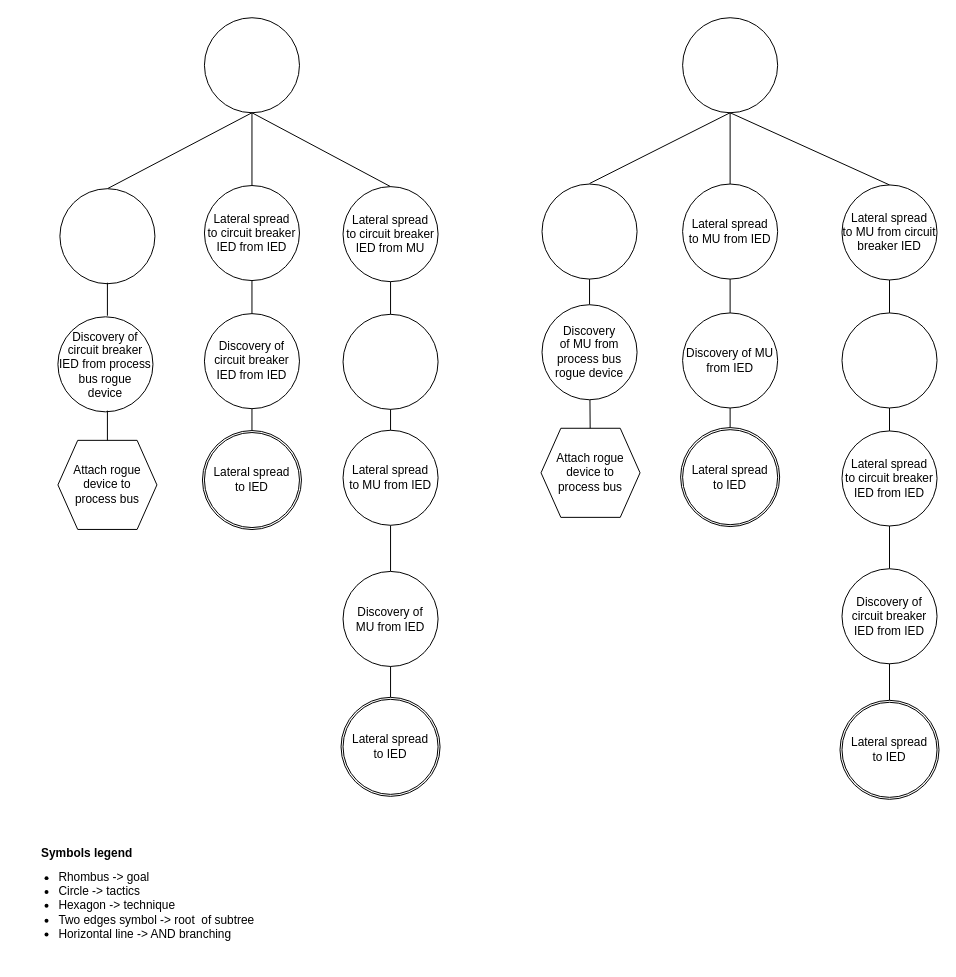
This 956x977 diagram has some shape labels left out. Here are the shapes that lost their labels. From the top down, the centre of each, then its label:
At [251,65]: "Lateral spread to circuit breaker IED".
At [730,65]: "Lateral spread to MU".
At [107,236]: "Latreal spread to circuit breaker IED from process bus rogue device".
At [589,231]: "Lateral spread to MU from process bus rogue device".
At [390,361]: "Discovery of circuit breaker IED from MU".
At [889,360]: "Discovery of MU from circuit breaker IED".
